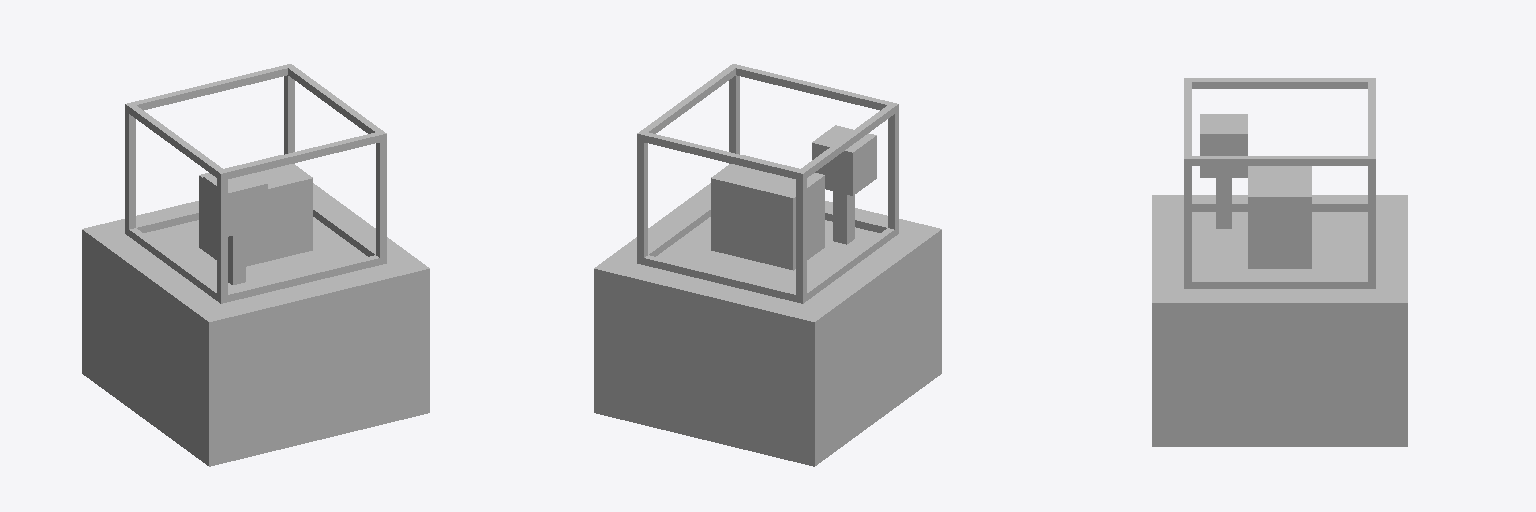
Rendered from Model_Building_v3.obj.
The picture shows the model from 3 angles: view 1: azimuth 30°, elevation 25°; view 2: azimuth 150°, elevation 25°; view 3: azimuth 270°, elevation 25°; orthographic projection.
Visible parts, largest first — view 1: cube; view 2: cube; view 3: cube.
Part boxes in pixels (bbox=[...]): cube: bbox=[82, 64, 429, 466]; cube: bbox=[594, 64, 941, 466]; cube: bbox=[1152, 78, 1407, 446].
Size of the model in its own units: 1 by 1.19 by 1.